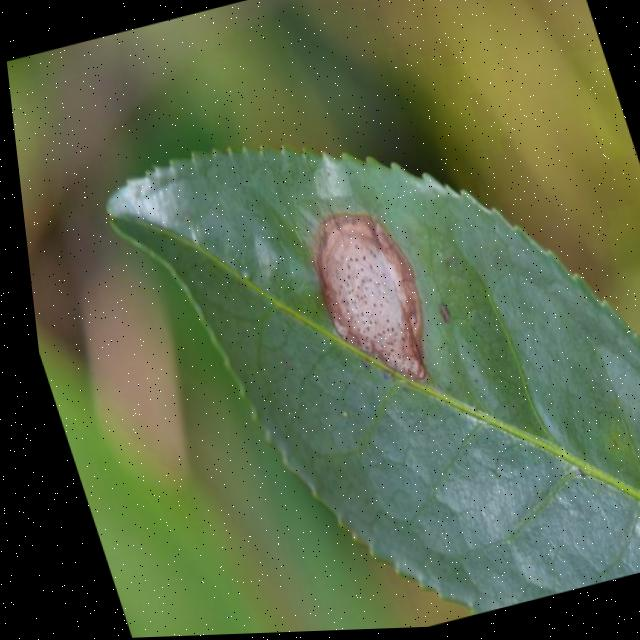Tea cloud leaf blight: (293, 204, 447, 408)
